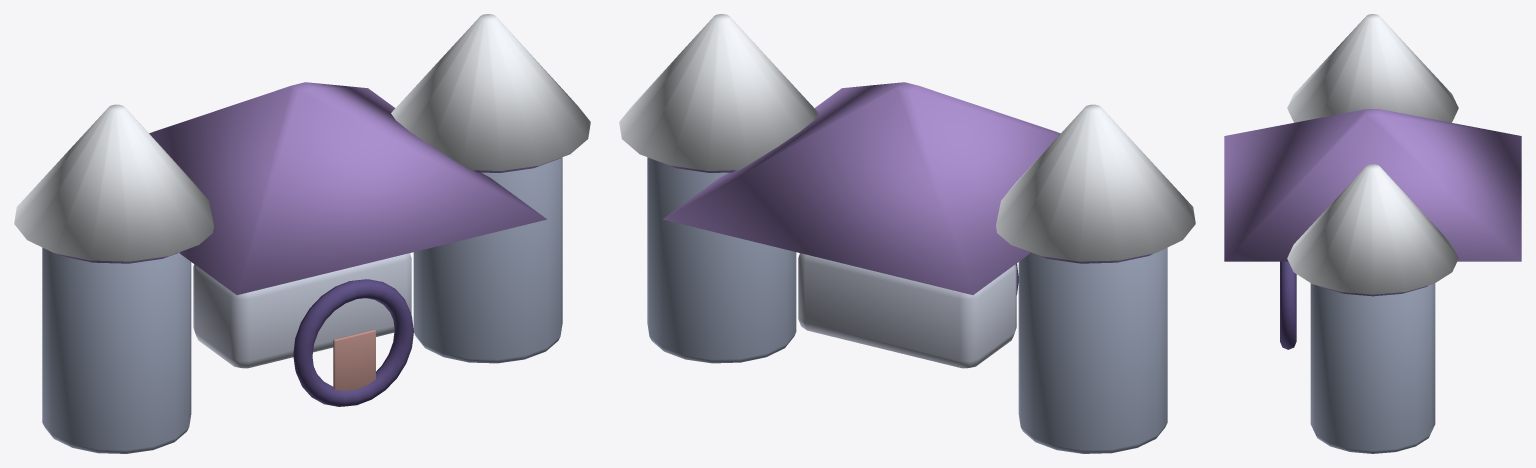
The model's file is northern_castle.glb.
3 renders of one model, left to right at view 1: azimuth 30°, elevation 25°; view 2: azimuth 150°, elevation 25°; view 3: azimuth 270°, elevation 25°, orthographic. The views are drawn at different scales.
Visible parts, largest first — view 1: HallRoof, Tower_-1.0, Tower_1.0, SnowRoof_-1.0, SnowRoof_1.0, Hall, DoorFrame, Door; view 2: HallRoof, Tower_-1.0, Tower_1.0, SnowRoof_-1.0, SnowRoof_1.0, Hall; view 3: HallRoof, Tower_1.0, SnowRoof_1.0, SnowRoof_-1.0, DoorFrame.
Boxes of the visible parts, x1,y1,x2,y2 form: HallRoof: [149, 82, 547, 294]; Tower_-1.0: [42, 247, 191, 453]; Tower_1.0: [413, 157, 562, 363]; SnowRoof_-1.0: [14, 104, 213, 261]; SnowRoof_1.0: [391, 14, 590, 170]; Hall: [193, 253, 411, 368]; DoorFrame: [293, 279, 413, 406]; Door: [333, 329, 375, 391]; HallRoof: [662, 82, 1060, 294]; Tower_-1.0: [1018, 247, 1167, 453]; Tower_1.0: [647, 157, 796, 363]; SnowRoof_-1.0: [996, 104, 1195, 261]; SnowRoof_1.0: [619, 14, 818, 170]; Hall: [798, 253, 1016, 368]; HallRoof: [1224, 109, 1521, 261]; Tower_1.0: [1310, 283, 1435, 453]; SnowRoof_1.0: [1287, 164, 1458, 294]; SnowRoof_-1.0: [1287, 14, 1458, 122]; DoorFrame: [1280, 261, 1296, 349].
Size of the model in its own units: 8.9 by 4.9 by 5.02.
